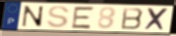8: (96, 6, 118, 30)
B: (119, 7, 145, 31)
E: (70, 6, 97, 30)
N: (21, 5, 45, 28)
S: (46, 5, 71, 29)
X: (143, 7, 171, 32)
